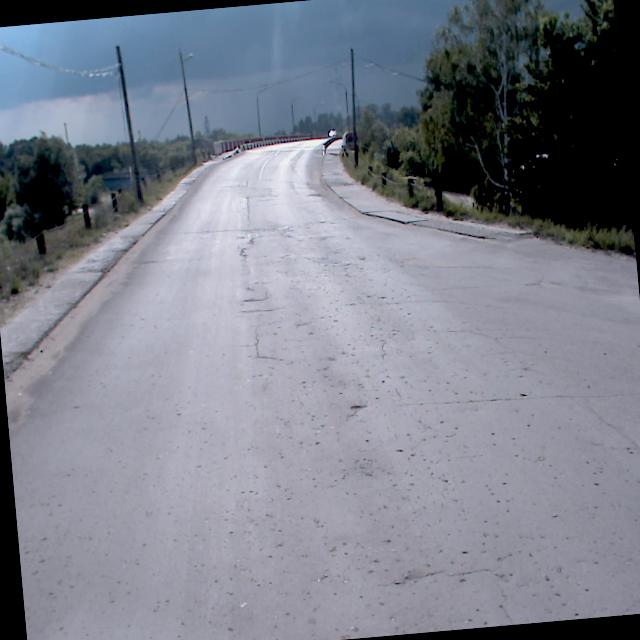road: (8, 137, 640, 640)
